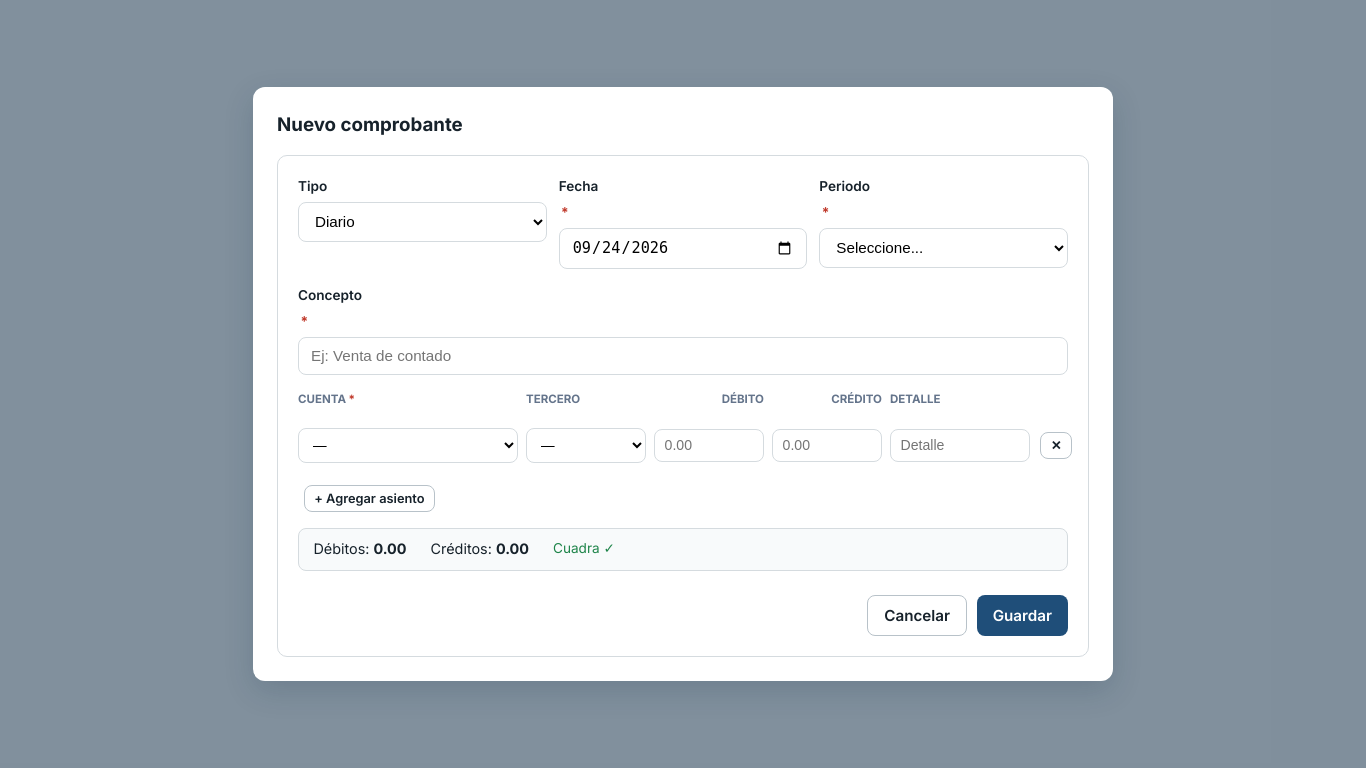
ComprobanteForm › exige un débito o un crédito por línea
Check: the button "Guardar" is shown, box [977,595,1068,636]
Select "2026-01" in the dropdown labelled "Periodo *". click: (944, 248)
box: [819,228,1068,268]
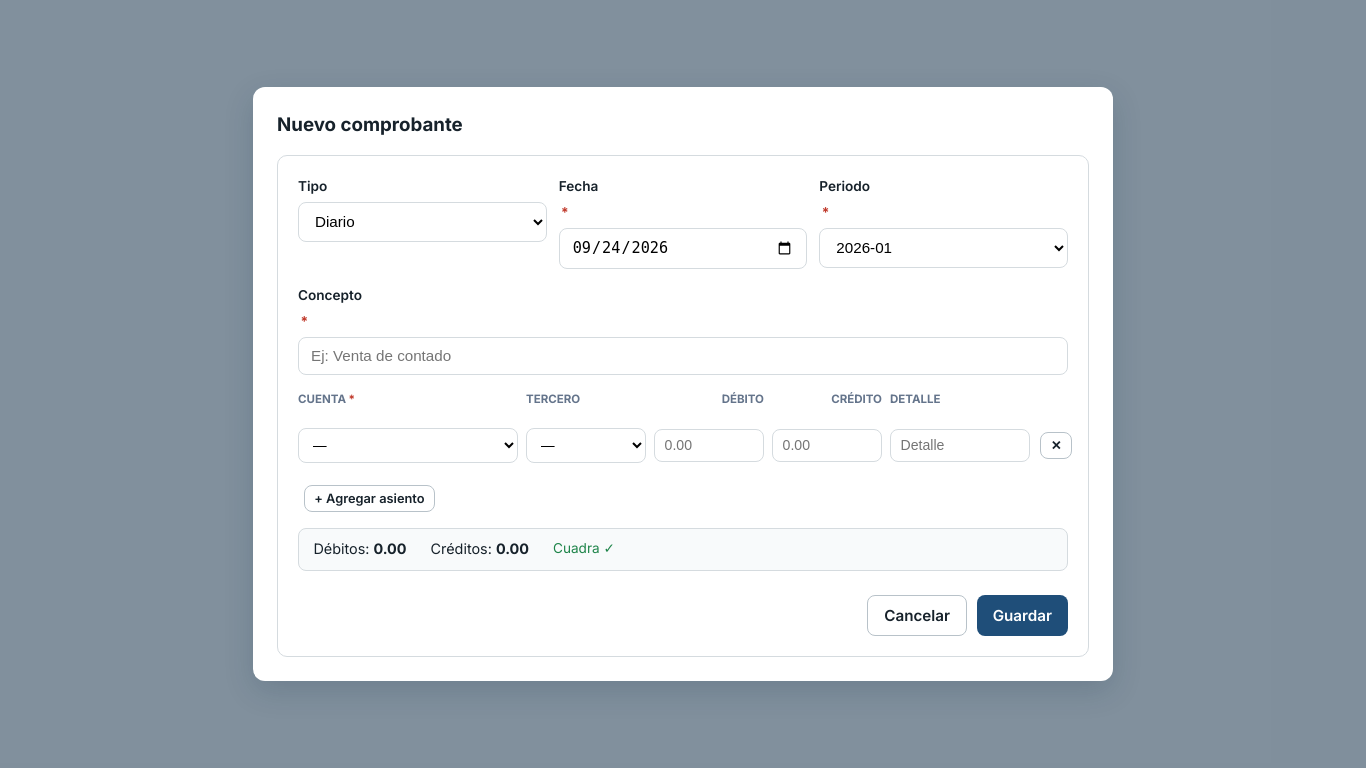
Type "Venta" into the field labelled "Concepto *". click: (683, 356)
box: [298,337,1068,375]
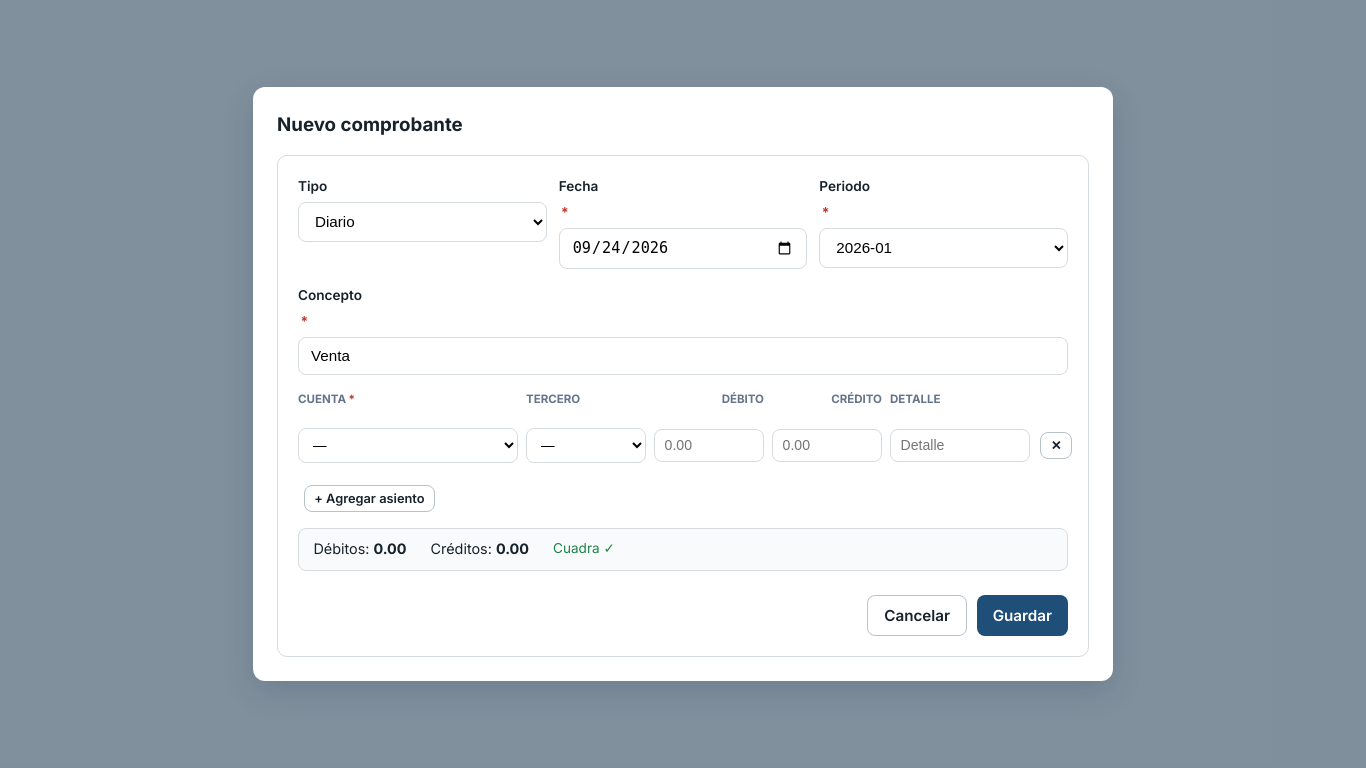
Select "1105 Caja" in the 3rd dropdown. click: (408, 446)
box: [298,428,518,463]
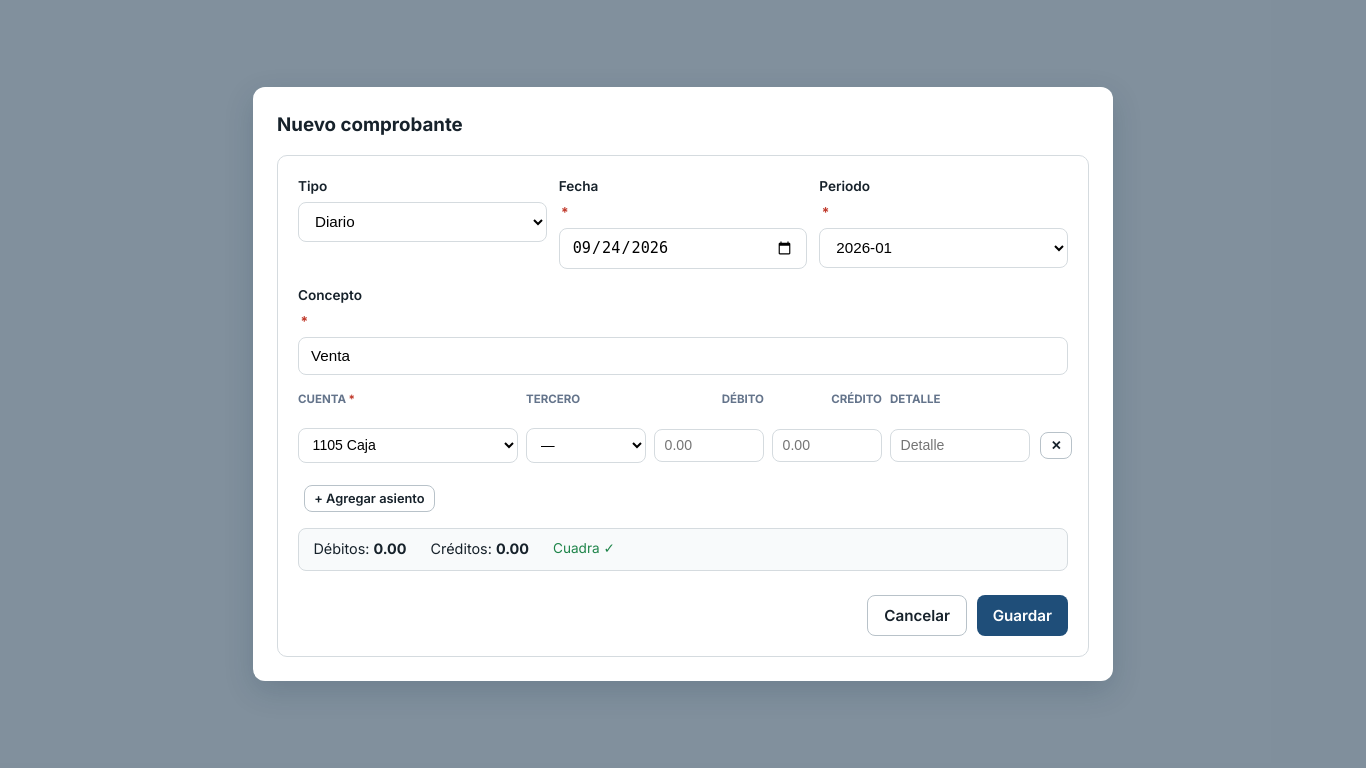
Click the button "Guardar". click: (1022, 616)
box: [977,595,1068,636]
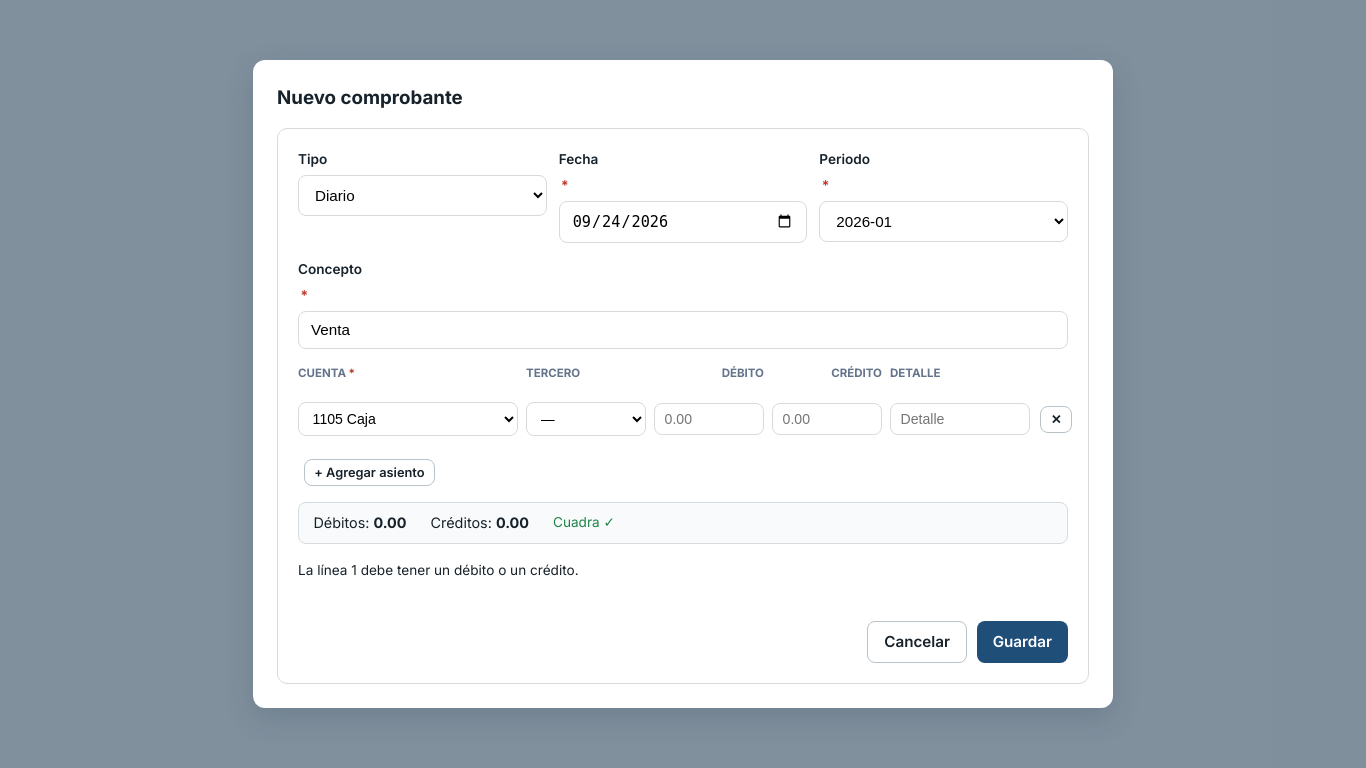
Check: the text "La línea 1 debe tener un débito o un crédito." is shown, box [298,562,579,578]
